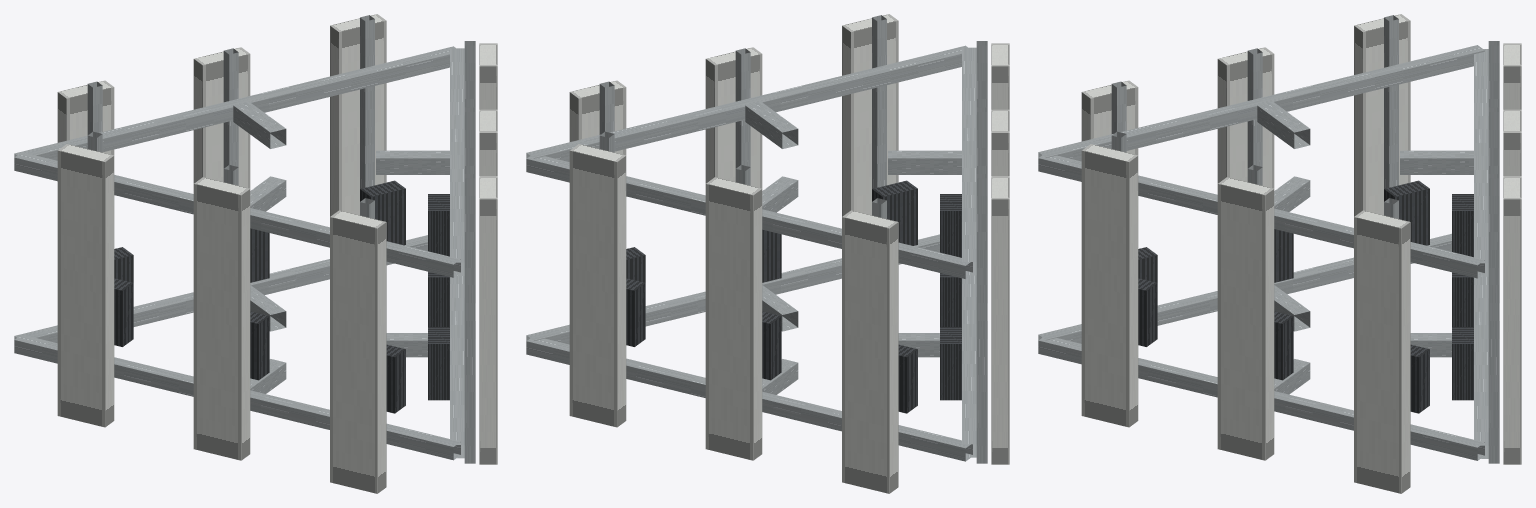
File: monopole_array.obj
3 renders of one model, left to right at view 1: azimuth 30°, elevation 25°; view 2: azimuth 150°, elevation 25°; view 3: azimuth 270°, elevation 25°, orthographic.
Visible parts, largest first — view 1: monopole_array; view 2: monopole_array; view 3: monopole_array.
Part boxes in pixels (x1,y1,x2,y2): monopole_array: [14, 14, 497, 493]; monopole_array: [526, 14, 1009, 493]; monopole_array: [1038, 14, 1521, 493].
Size of the model in its own units: 2.84 by 1.72 by 2.64.
